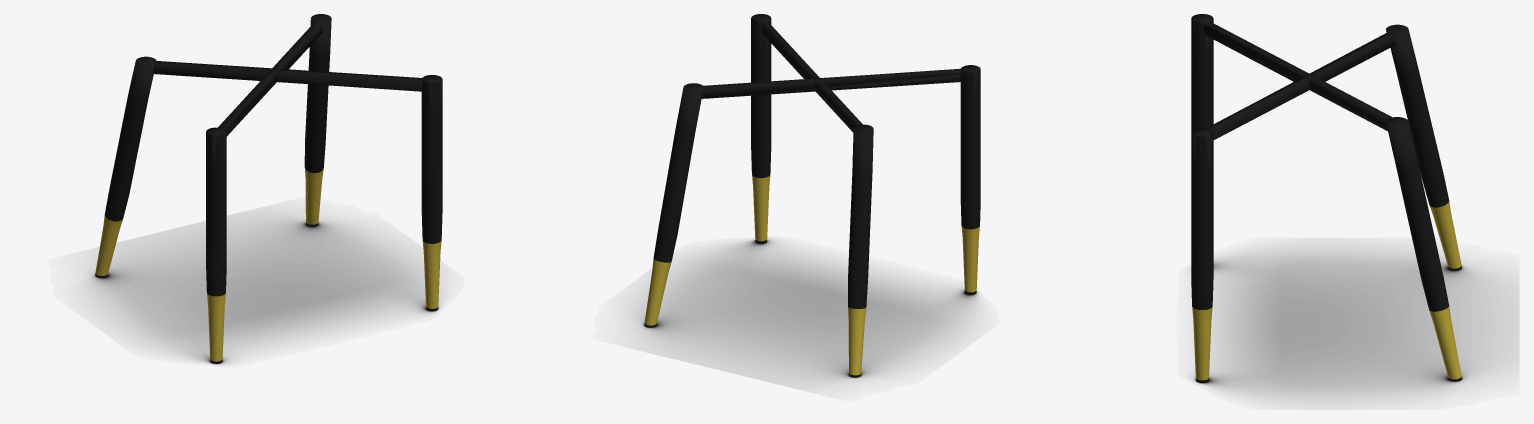
The model's file is czarne+złote.glb.
The picture shows the model from 3 angles, left to right: view 1: azimuth 30°, elevation 25°; view 2: azimuth 150°, elevation 25°; view 3: azimuth 270°, elevation 25°; orthographic projection. The views are drawn at different scales.
Visible parts, largest first — view 1: Shadow.002, legs.013, legs.014; view 2: Shadow.002, legs.013, legs.014; view 3: Shadow.002, legs.013, legs.014.
Boxes of the visible parts, x1,y1,x2,y2 form: Shadow.002: (89,217,439,364); legs.013: (95,14,442,363); legs.014: (95,168,441,361); Shadow.002: (636,239,977,381); legs.013: (644,14,980,377); legs.014: (644,175,979,375); Shadow.002: (1193,250,1507,398); legs.013: (1191,14,1461,382); legs.014: (1192,201,1461,380).
Size of the model in its own units: 0.5956 by 0.3996 by 0.6133.
3 materials, 1 textured.
